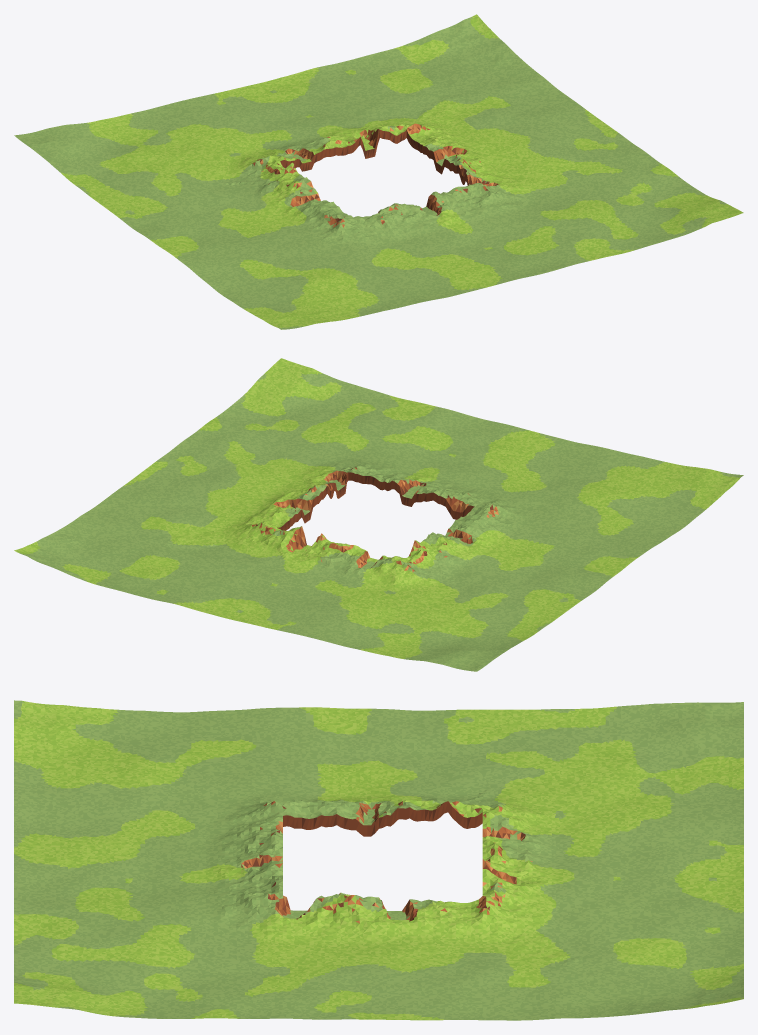
File: SM_Terrain_Near.glb
3 renders of one model, top to bottom at view 1: azimuth 30°, elevation 25°; view 2: azimuth 150°, elevation 25°; view 3: azimuth 270°, elevation 25°, orthographic. The views are drawn at different scales.
Parts seen in each view (by area): view 1: SM_Terrain_Near; view 2: SM_Terrain_Near; view 3: SM_Terrain_Near.
Part boxes in pixels (box(x1,y1,x2,y2)): SM_Terrain_Near: box(14, 14, 743, 329); SM_Terrain_Near: box(14, 358, 743, 671); SM_Terrain_Near: box(14, 700, 743, 1020).
Size of the model in its own units: 4750 by 277 by 4750.
Materials: 1 (1 with a texture image).
